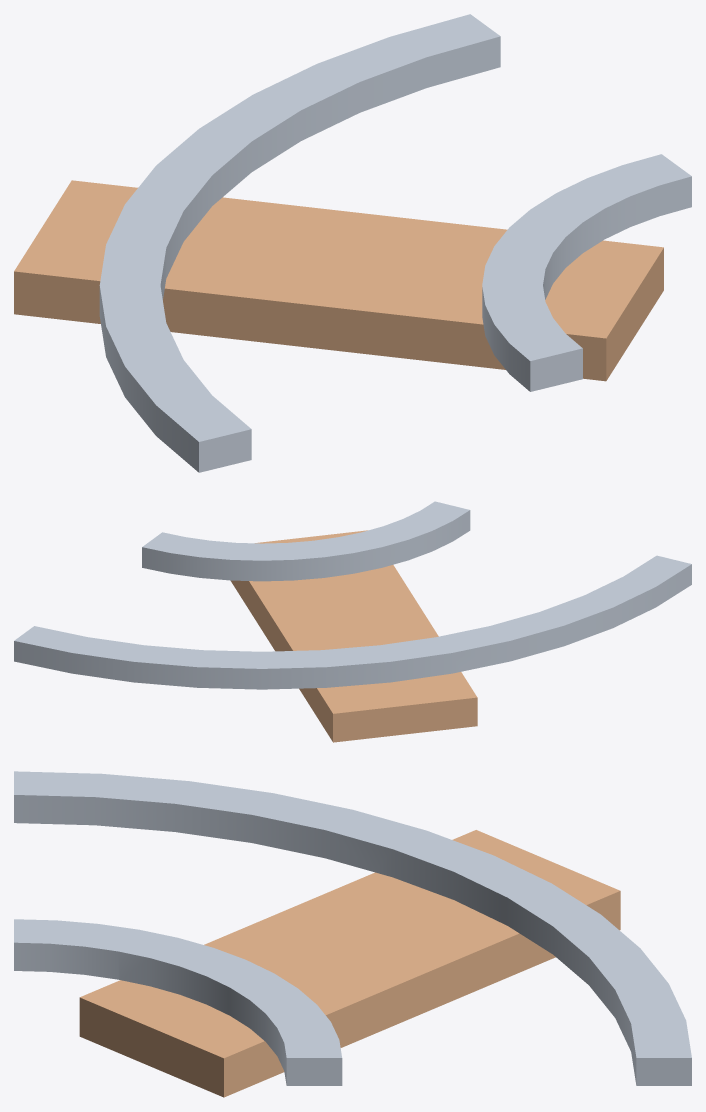
The model's file is trackCornerSmall.glb.
The picture shows the model from 3 angles, top to bottom: view 1: azimuth 30°, elevation 25°; view 2: azimuth 150°, elevation 25°; view 3: azimuth 270°, elevation 25°; orthographic projection. The views are drawn at different scales.
Visible parts, largest first — view 1: trackCornerSmall; view 2: trackCornerSmall; view 3: trackCornerSmall.
Part boxes in pixels (<box>): trackCornerSmall: <box>14,14,691,472</box>; trackCornerSmall: <box>14,501,691,742</box>; trackCornerSmall: <box>14,771,691,1097</box>.
Size of the model in its own units: 0.2197 by 0.0241 by 0.2197.
